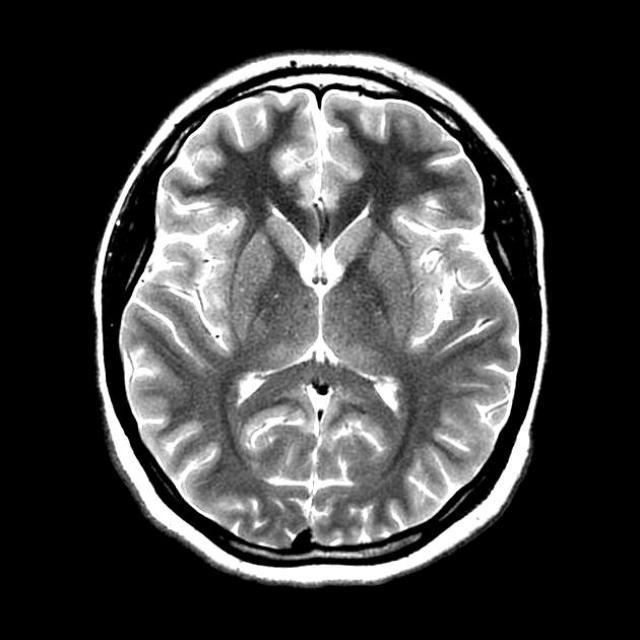notumor: (93, 53, 550, 592)
